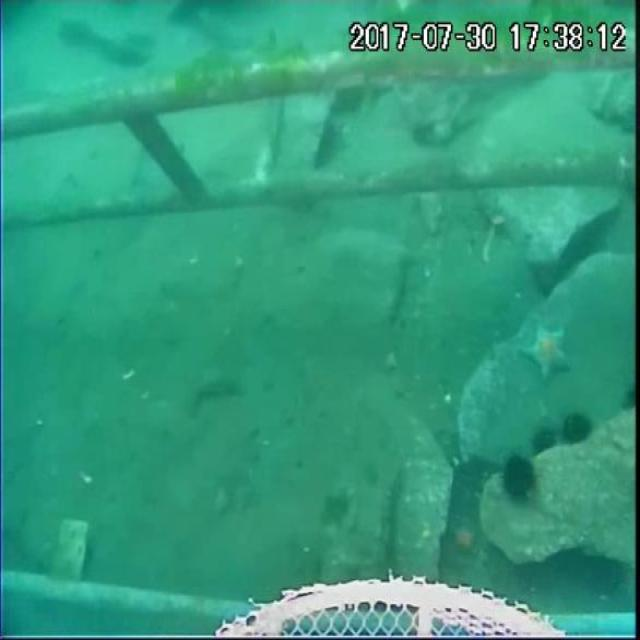echinus: (582, 553, 627, 603), (500, 449, 538, 507), (550, 544, 588, 579), (556, 411, 595, 445), (529, 424, 559, 459), (620, 381, 640, 416)
starfish: (521, 319, 574, 381), (442, 511, 486, 566)
